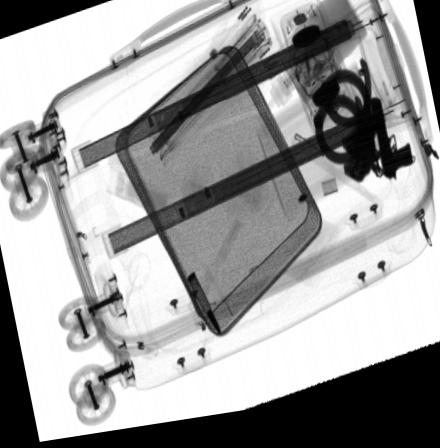Bullet: (187, 275, 221, 341)
Gun: (371, 109, 414, 193)
HandCuffs: (309, 66, 376, 194)
